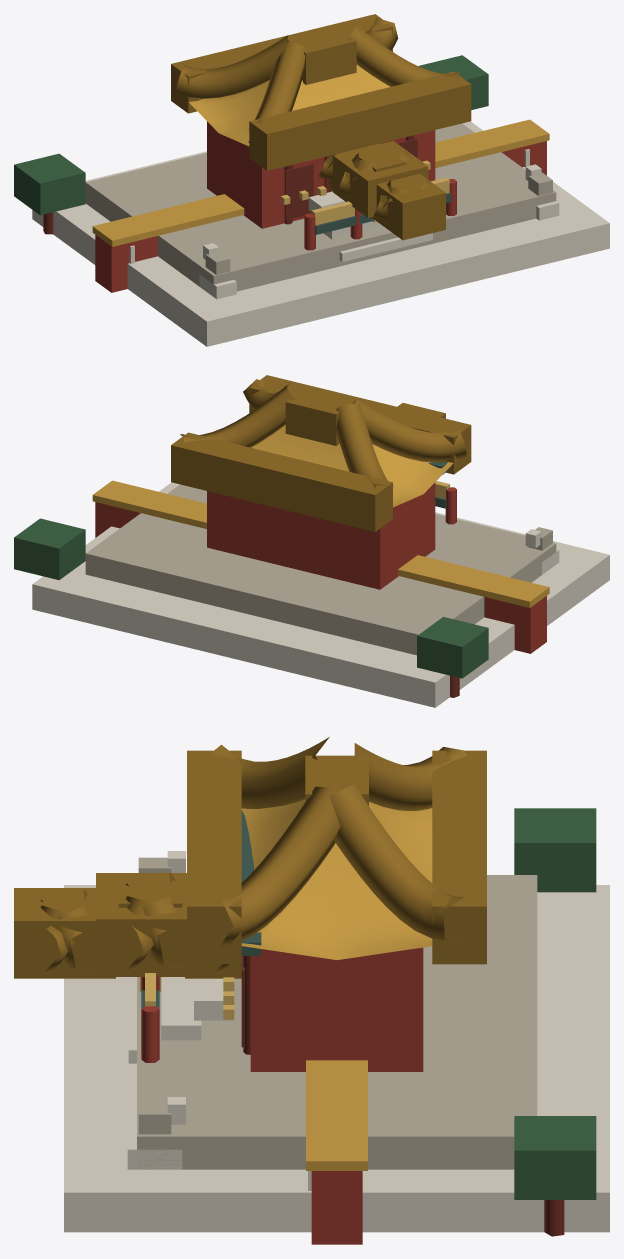
The picture shows the model from 3 angles, top to bottom: view 1: azimuth 30°, elevation 25°; view 2: azimuth 150°, elevation 25°; view 3: azimuth 270°, elevation 25°; orthographic projection. The views are drawn at different scales.
Bounding box in the file's own units: 0.445 × 0.1919 × 0.3275.
